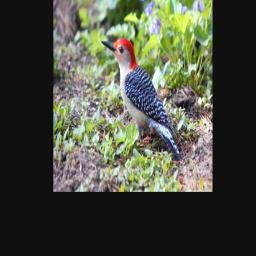Woodpecker: (101, 37, 183, 161)
